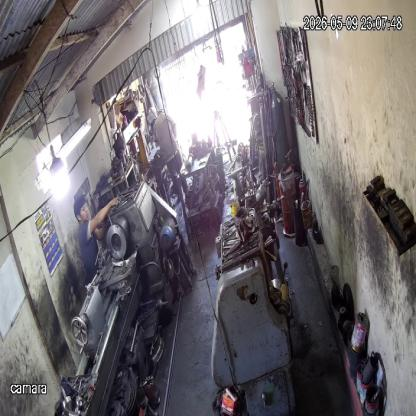sin_lentes: (78, 204, 90, 214)
